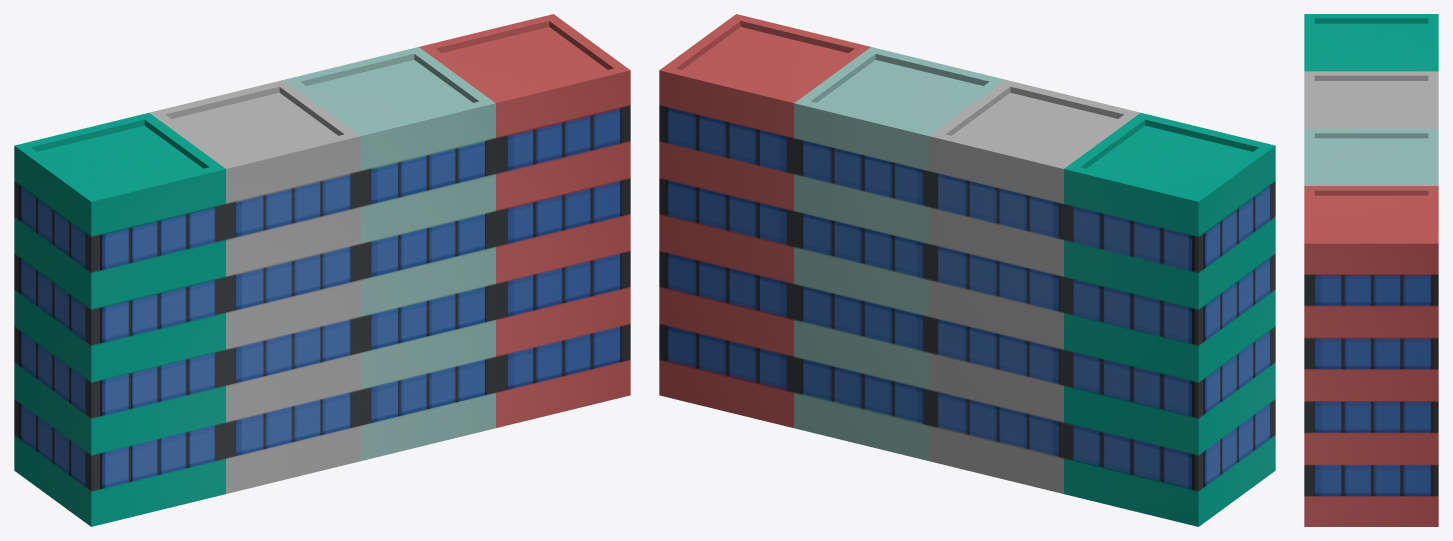
Rendered from Buildings_geo_low.fbx.
3 views of the same model, side by side, from view 1: azimuth 30°, elevation 25°; view 2: azimuth 150°, elevation 25°; view 3: azimuth 270°, elevation 25° (orthographic). The views are drawn at different scales.
Visible parts, largest first — view 1: Building_Turq, Building_Red, Building_Gray, Building_LBlue; view 2: Building_Turq, Building_Red, Building_Gray, Building_LBlue; view 3: Building_Red, Building_Turq, Building_Gray, Building_LBlue.
Boxes of the visible parts, x1,y1,x2,y2 form: Building_Turq: (14, 113, 225, 526); Building_Red: (419, 14, 630, 427); Building_Gray: (149, 80, 360, 493); Building_LBlue: (284, 47, 495, 460); Building_Turq: (1064, 113, 1275, 526); Building_Red: (659, 14, 870, 427); Building_Gray: (929, 80, 1140, 493); Building_LBlue: (794, 47, 1005, 460); Building_Red: (1304, 186, 1438, 526); Building_Turq: (1304, 14, 1438, 71); Building_Gray: (1304, 71, 1438, 128); Building_LBlue: (1304, 128, 1438, 185).
Size of the model in its own units: 655 by 377 by 162.
1 material, 1 textured.
